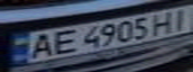0: (115, 18, 139, 43)
4: (78, 24, 103, 51)
5: (130, 15, 154, 40)
9: (96, 20, 121, 47)
A: (21, 32, 57, 61)
E: (45, 28, 81, 56)
H: (148, 10, 181, 36)
I: (166, 7, 193, 32)
